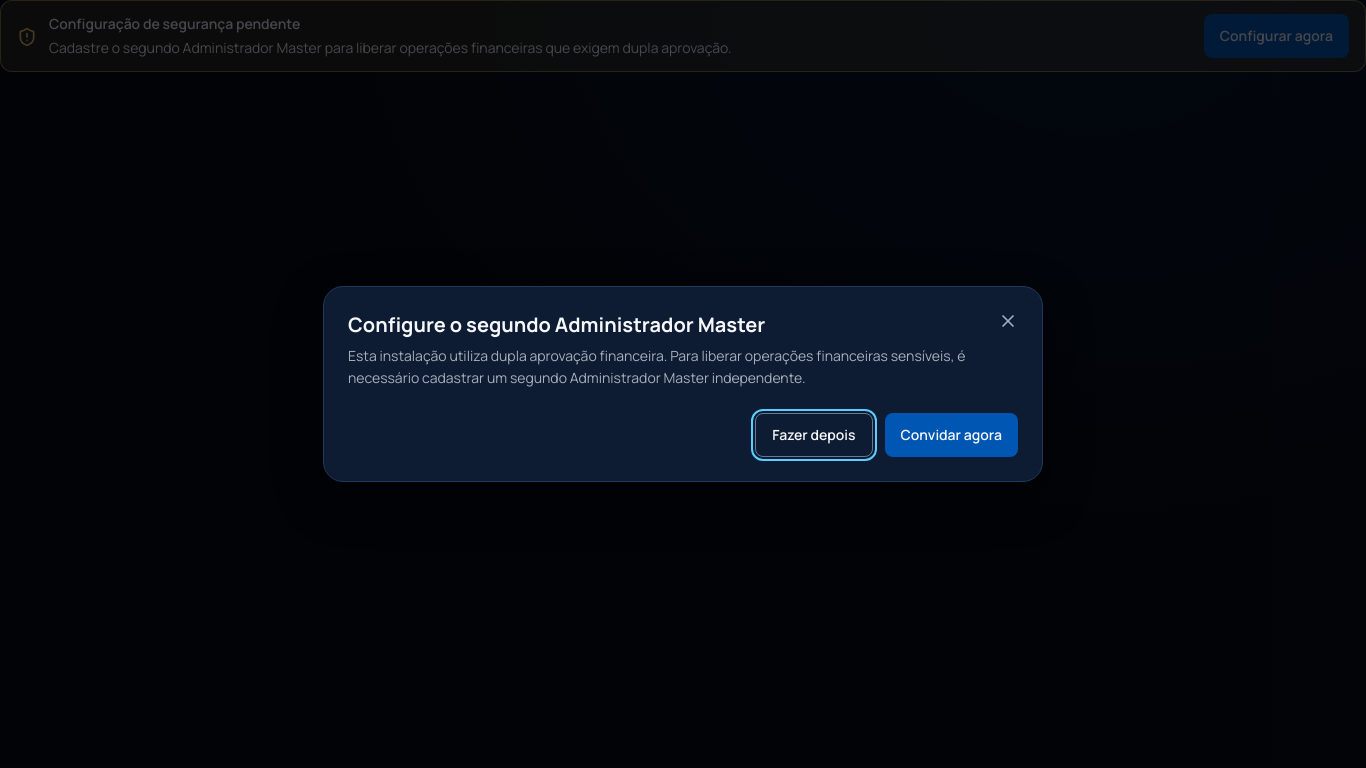
modal e banner do 2º Master › "Convidar agora" abre o formulário no próprio modal; envia nome, e-mail e TOTP; nunca recebe link/token
Click the button "Convidar agora".
click(951, 435)  # box [884,413,1018,457]
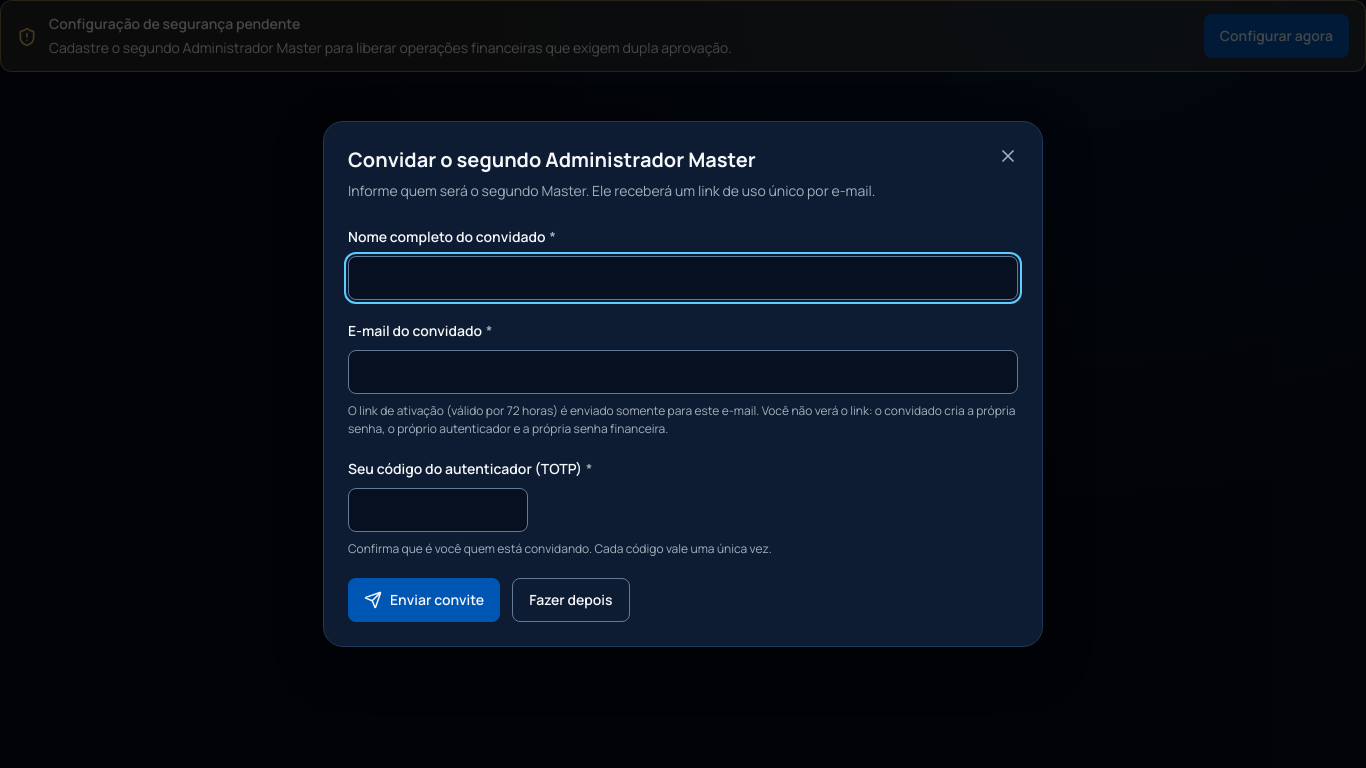
Type "Maria Souza" into the field labelled "Nome completo do convidado*".
click(683, 278); type("Maria Souza")  # box [348,256,1018,300]
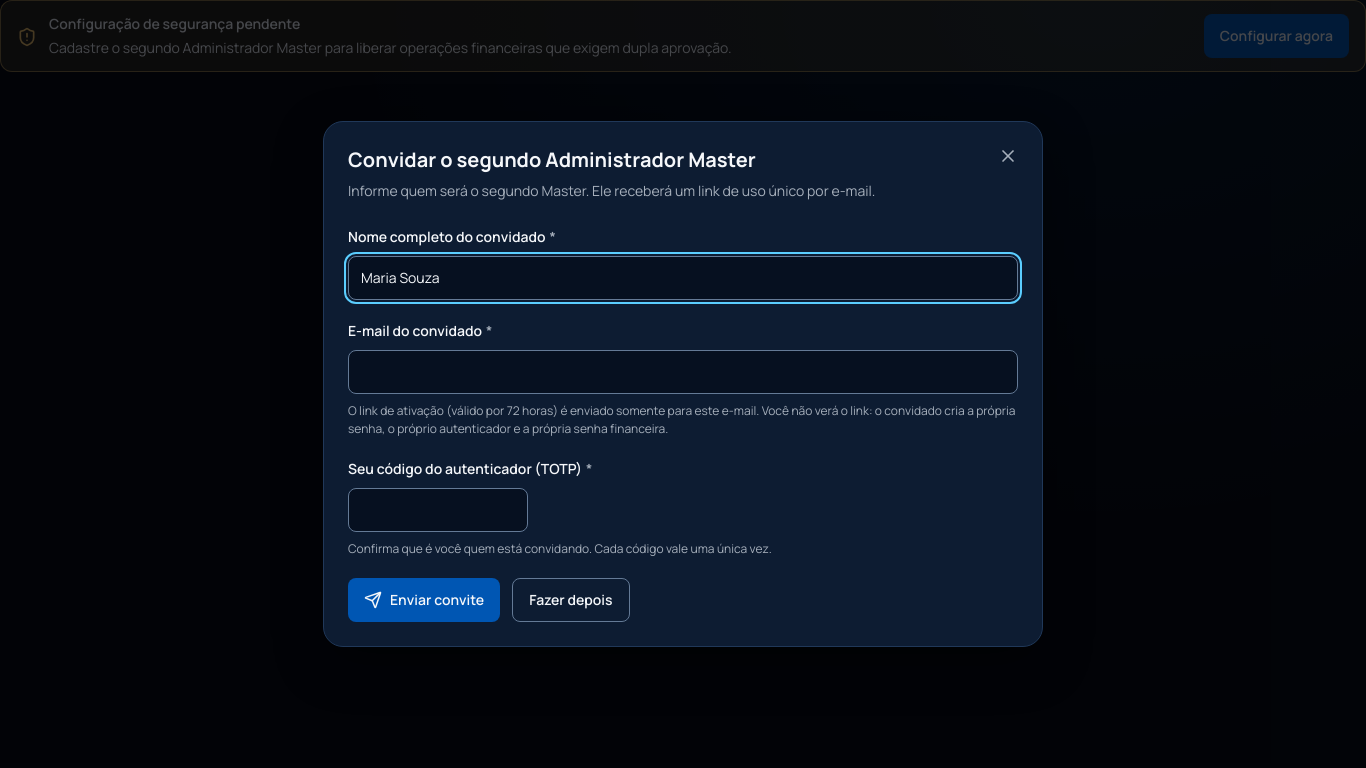
Type "maria@rd.invalid" into the field labelled "E-mail do convidado*".
click(683, 372); type("maria@rd.invalid")  # box [348,350,1018,394]
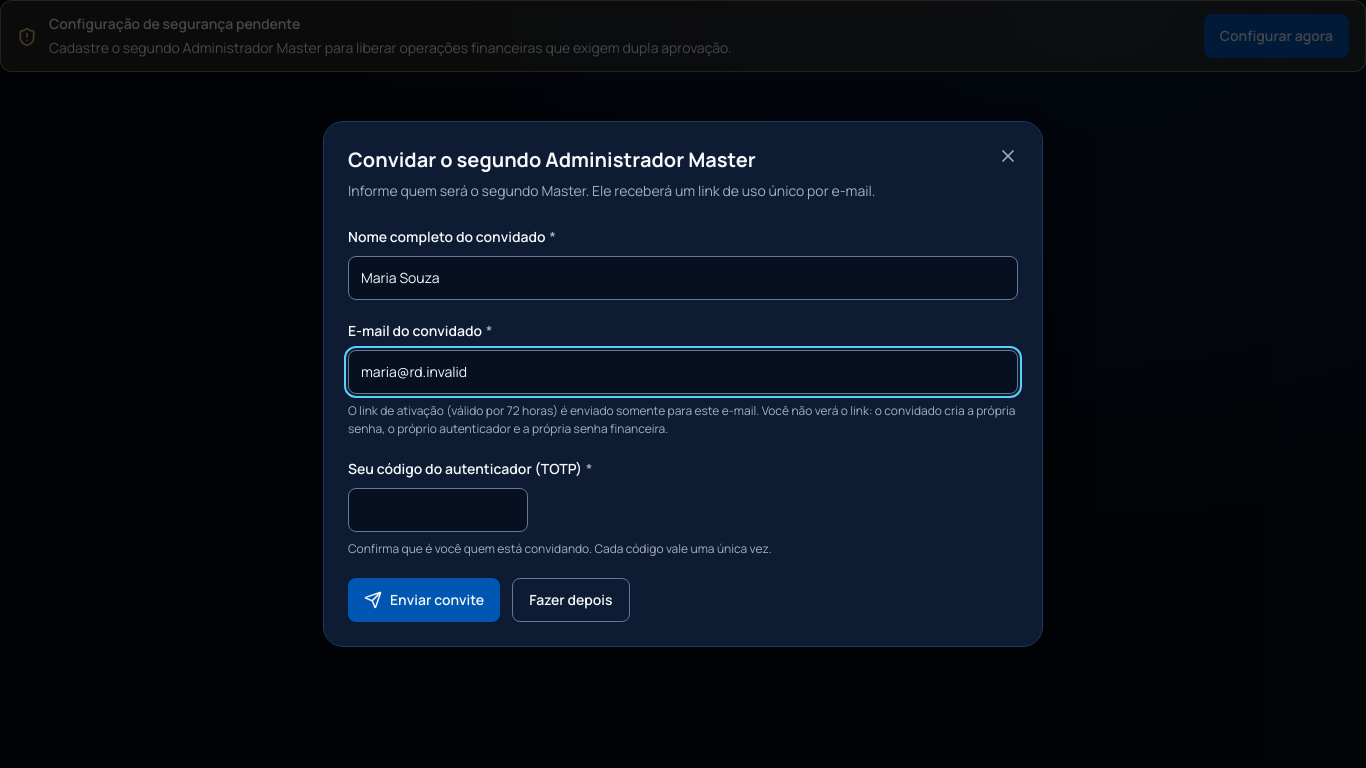
Type "123456" into the field labelled "Seu código do autenticador (TOTP)*".
click(438, 510); type("123456")  # box [348,488,528,532]
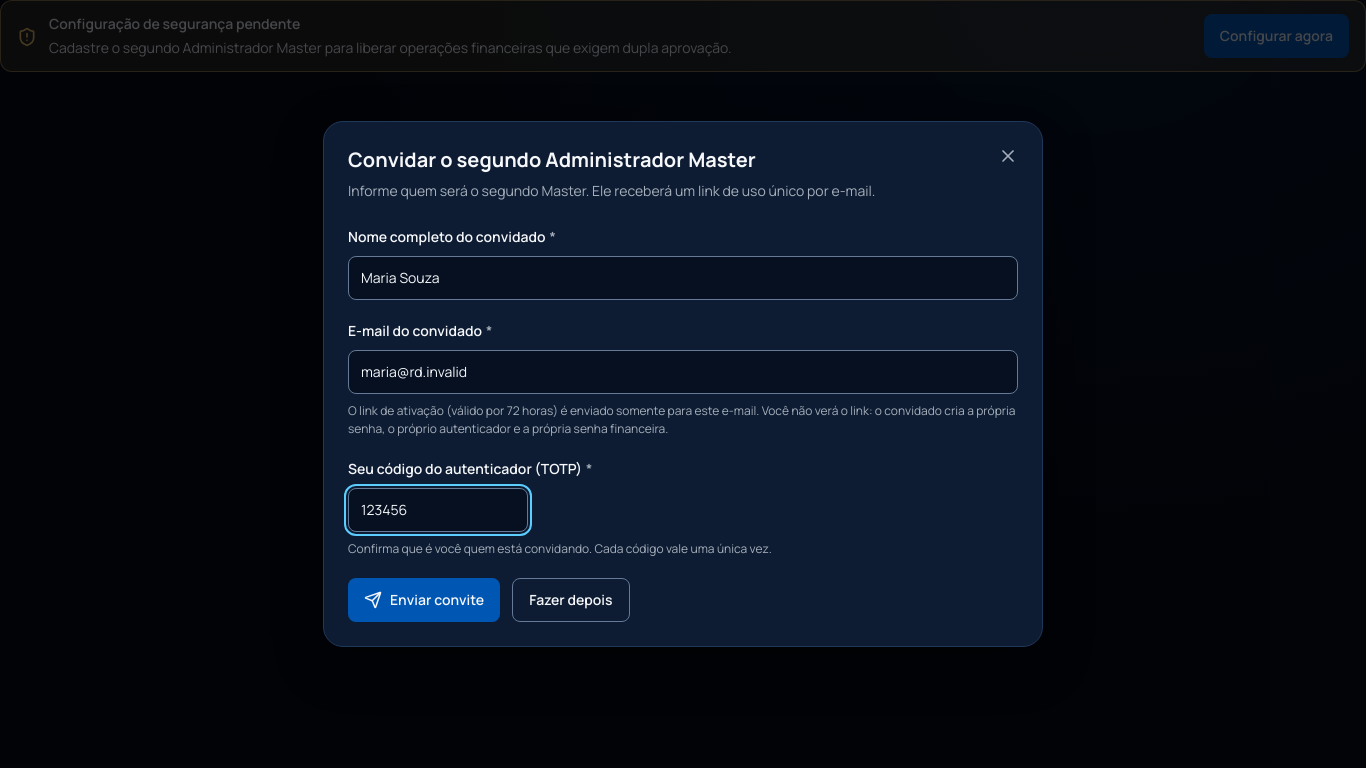
Click the button "Enviar convite".
click(424, 600)  # box [348,578,500,622]
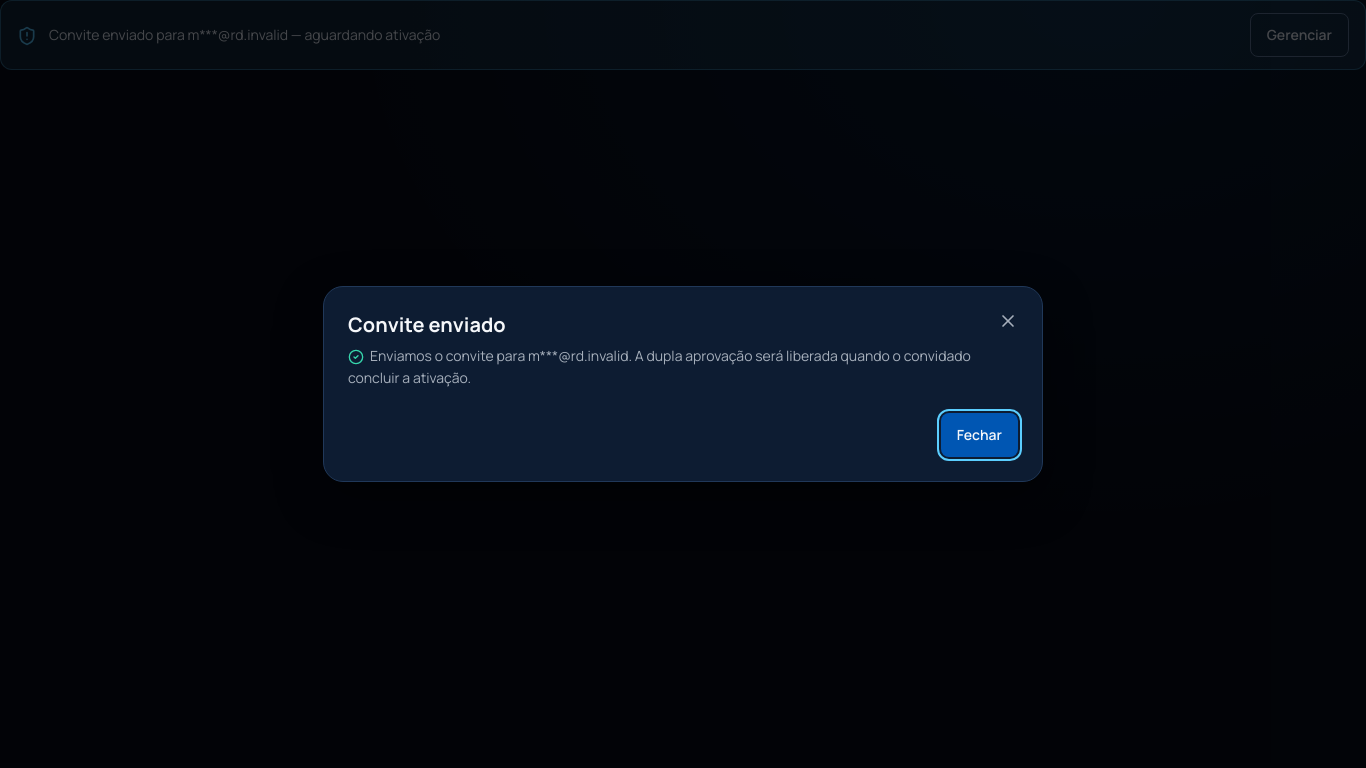
Now the dialog "Convite enviado" shows "m***@rd.invalid", box [370,346,632,365]
Now the text "Convite enviado para m***@rd.invalid — aguardando ativação" is shown, box [49,25,440,44]
